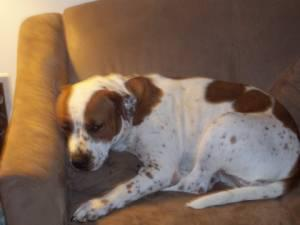dog-american_pit_bull_terrier: (54, 81, 135, 171)
